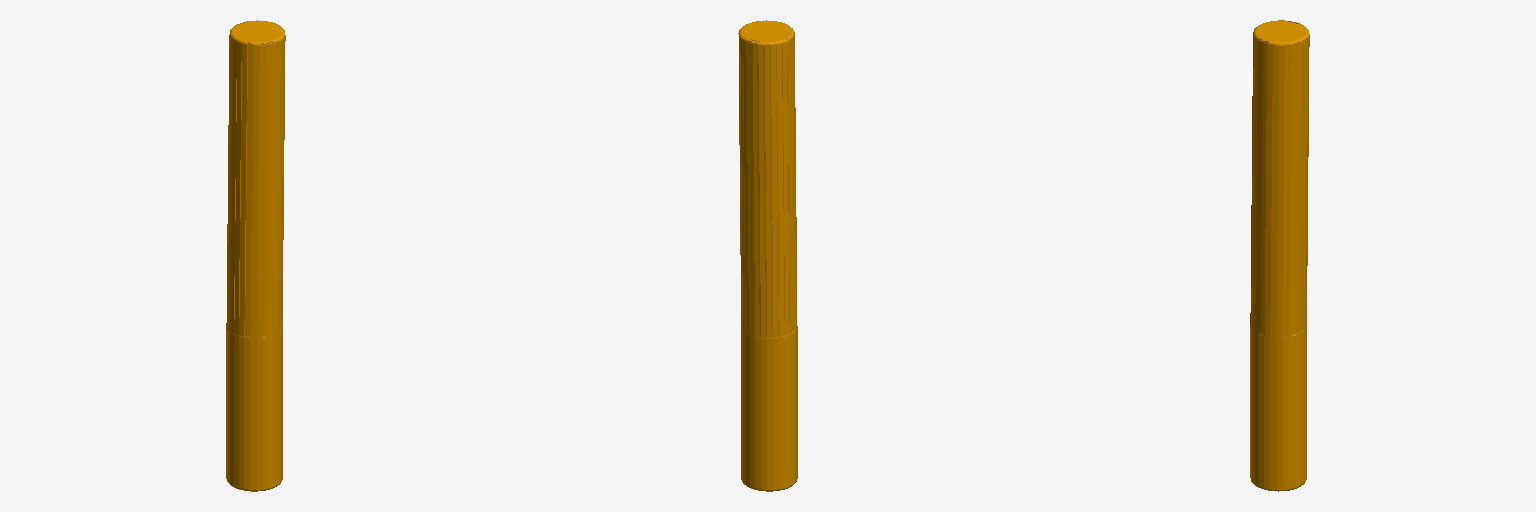
The robot description file, URDF, robot "00074_plug":
<?xml version="1.0"?>
<robot name="00074_plug">
	<link name="00074_plug">
		<visual>
			<geometry>
				<mesh filename="../mesh/00074/asset_plug.obj"/>
			</geometry>
		</visual>
		<collision>
			<geometry>
				<mesh filename="../mesh/00074/asset_plug.obj"/>
			</geometry>
			<sdf resolution="256"/>
		</collision>
	</link>
</robot>

--- What the picture shows (computed from the rendered views, not written in the file) ---
3 views of the same robot in one strip: view 1: azimuth 30°, elevation 25°; view 2: azimuth 150°, elevation 25°; view 3: azimuth 330°, elevation 25° (orthographic).
Model 00074_plug with 1 links and 0 joints (none), rooted at 00074_plug, posed every joint at zero.
Links seen in each view (by area): view 1: 00074_plug; view 2: 00074_plug; view 3: 00074_plug.
Boxes of the visible links, box(x1,y1,x2,y2) form: 00074_plug: box(226, 20, 285, 491); 00074_plug: box(738, 20, 797, 491); 00074_plug: box(1250, 20, 1309, 491).
Size in the robot's own frame: 0.005 by 0.0048 by 0.0422 metres.
1 mesh visuals loaded from 1 distinct referenced files (1 OBJ).